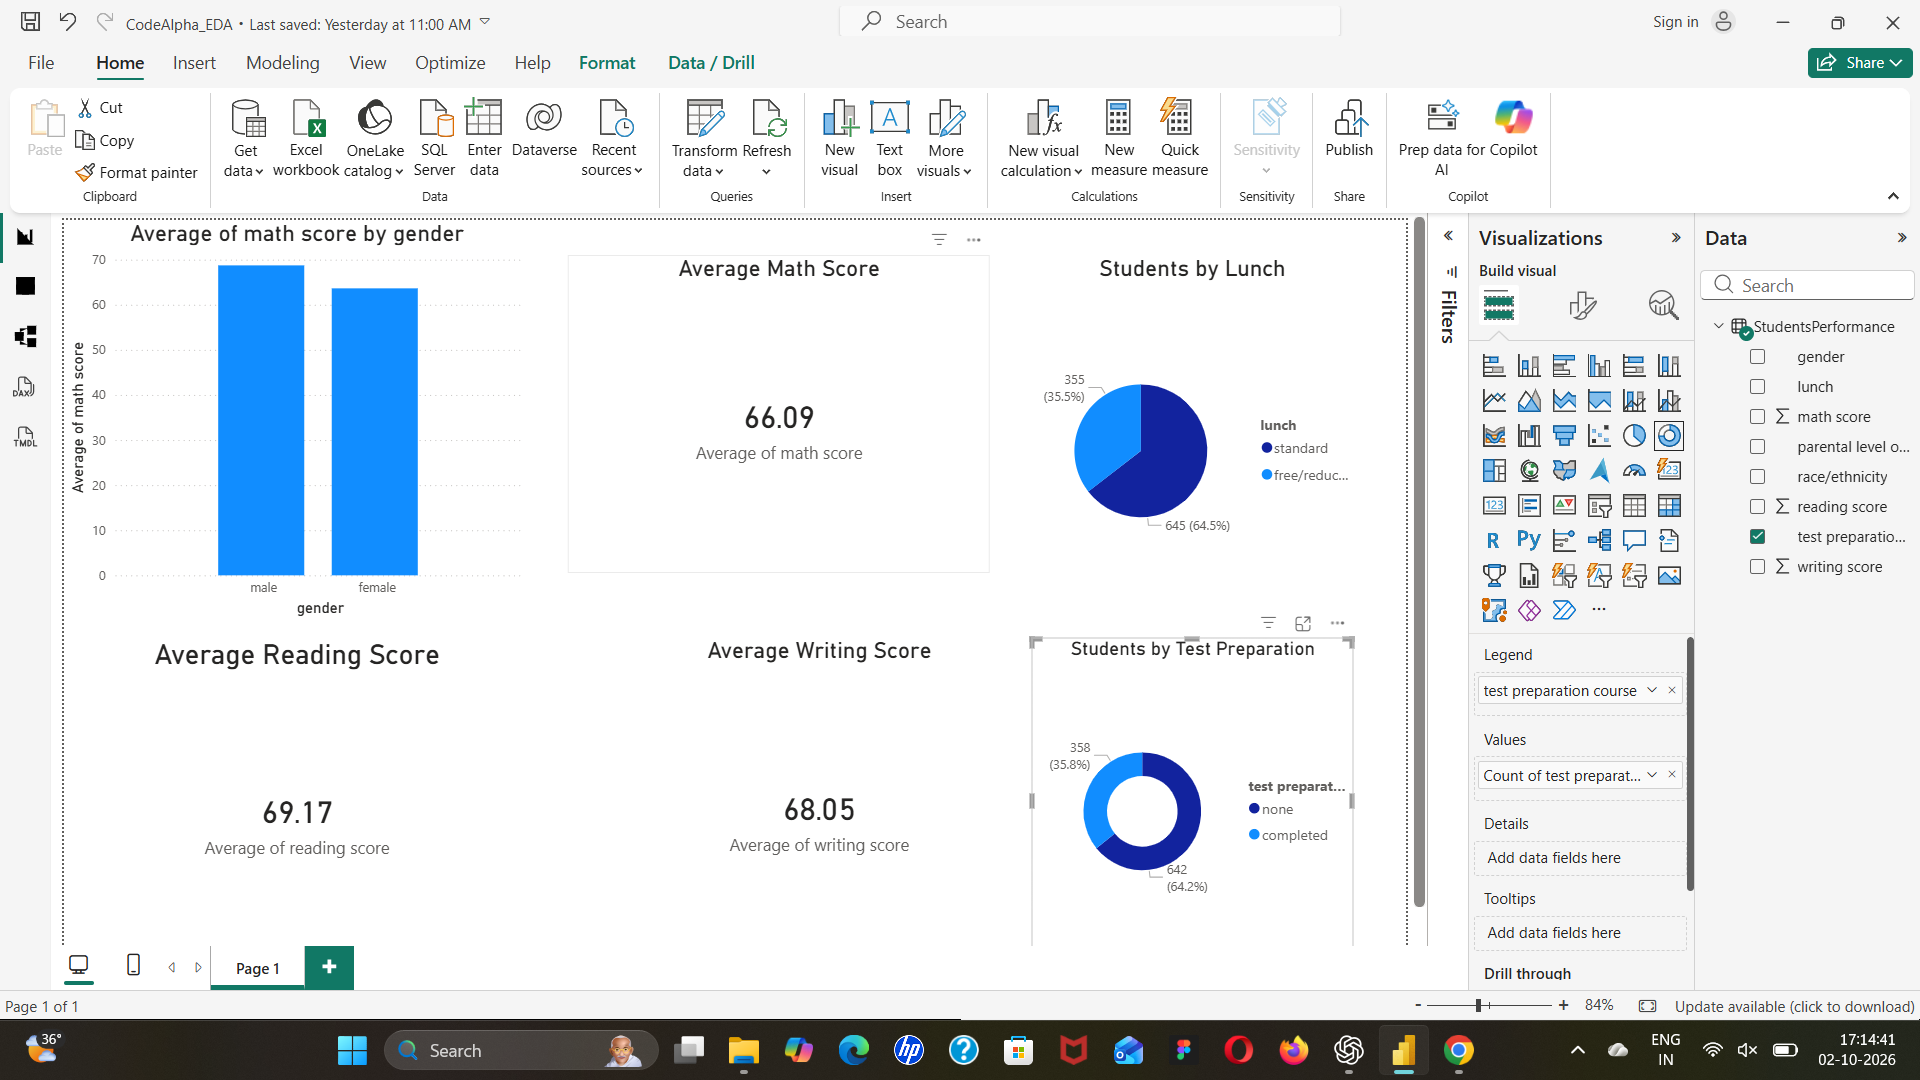

What the dashboard file says about the page in this screenshot:
{"tool":"powerbi","page":{"name":"Page 1","canvas":[1280,720],"ordinal":0},"visuals":[{"type":"clusteredColumnChart","fields":{"Category":["StudentsPerformance.gender"],"Y":["Avg(StudentsPerformance.math score)"]},"box":[0,0,444.6,382.8],"z":0},{"type":"card","title":"Average Math Score","fields":{"Values":["Avg(StudentsPerformance.math score)"]},"box":[480.3,32.9,403.4,303.3],"z":1000},{"type":"card","title":"Average Reading Score","fields":{"Values":["Avg(StudentsPerformance.reading score)"]},"box":[0,398,445,322],"z":2000},{"type":"card","title":"Average Writing Score","fields":{"Values":["Avg(StudentsPerformance.writing score)"]},"box":[480.3,397.9,480.3,322.5],"z":3000},{"type":"pieChart","title":"Students by Lunch","fields":{"Category":["StudentsPerformance.lunch"],"Y":["CountNonNull(StudentsPerformance.gender)"]},"box":[908.9,33.3,335.6,350],"z":4000},{"type":"donutChart","title":"Students by Test Preparation","fields":{"Category":["StudentsPerformance.test preparation course"],"Y":["CountNonNull(StudentsPerformance.test preparation course)"]},"box":[922.2,397.8,307.8,311.1],"z":5001}]}

Visuals, with their boxes on the page's 1280x720 design canvas (x1, y1, x2, y2). These are canvas units, not pixel positions in the 1920x1080 screenshot, which may show the page scaled, cropped or inside an application window:
clusteredColumnChart - StudentsPerformance.gender x Avg(StudentsPerformance.math score): [0,0,445,383]
"Average Math Score" card: [480,33,884,336]
"Average Reading Score" card: [0,398,445,720]
"Average Writing Score" card: [480,398,961,720]
"Students by Lunch" pieChart: [909,33,1244,383]
"Students by Test Preparation" donutChart: [922,398,1230,709]
